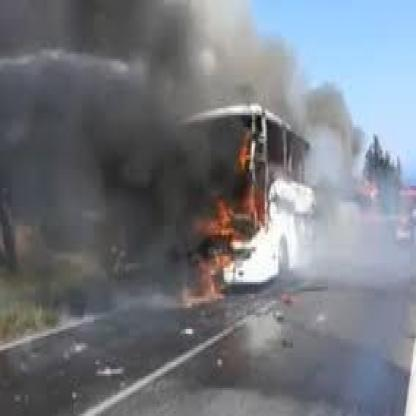fire: (189, 129, 279, 304)
smoke: (6, 0, 198, 288)
